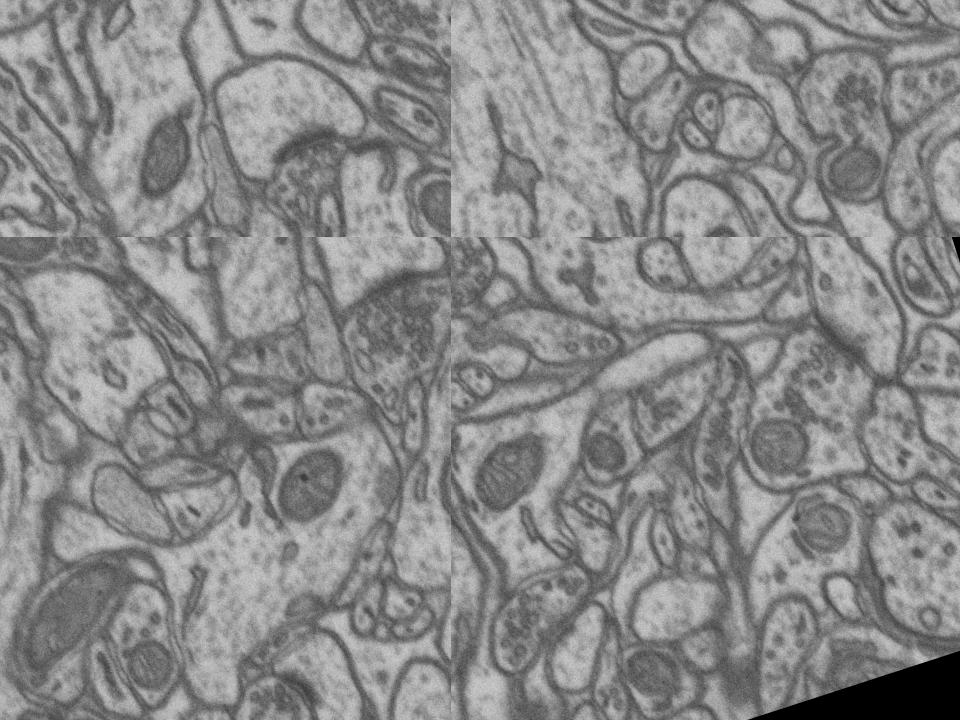mitochondria: (0, 538, 154, 698), (451, 413, 565, 534), (110, 100, 218, 217), (256, 431, 368, 538), (802, 610, 940, 696), (0, 406, 49, 615), (732, 392, 832, 486), (775, 480, 872, 573), (810, 126, 904, 212), (609, 627, 695, 709), (562, 413, 648, 489), (115, 625, 190, 709), (395, 151, 451, 237), (0, 237, 79, 289), (416, 423, 451, 538), (542, 237, 653, 269), (500, 680, 572, 720), (28, 700, 136, 720), (674, 212, 760, 237)
